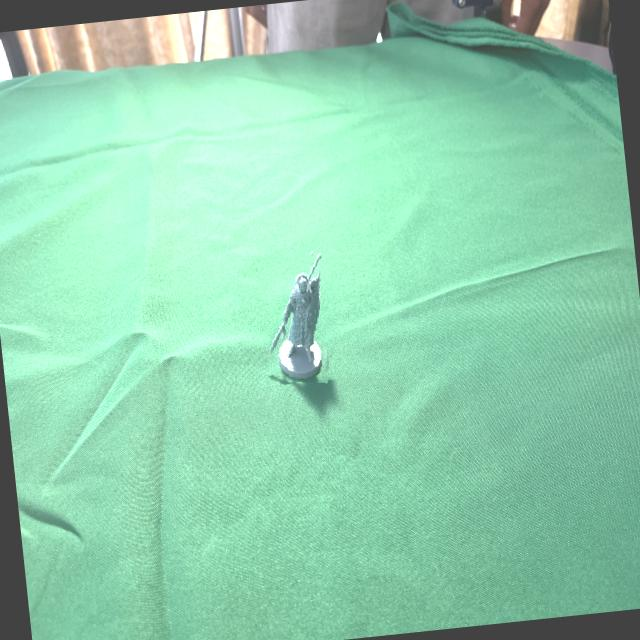isis_follower: (260, 247, 342, 387)
